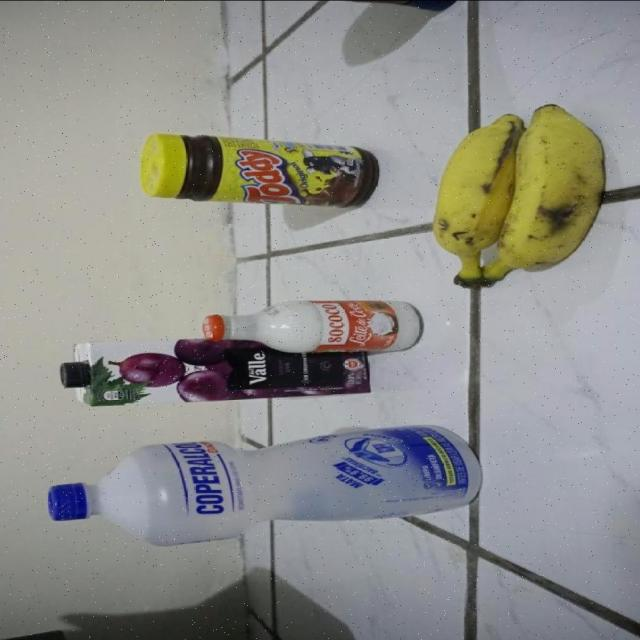AlcoholBottle: (46, 422, 490, 546)
Banana: (432, 100, 607, 289)
ChocolatePowder: (137, 132, 380, 208)
CoconutMilk: (200, 296, 428, 354)
